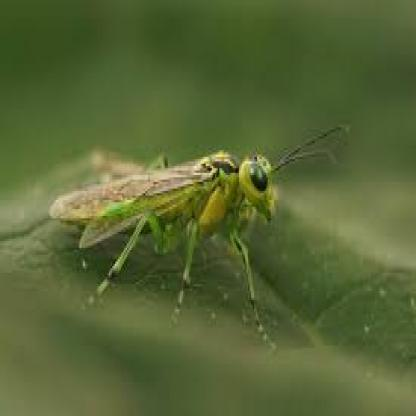sawfly: (42, 112, 354, 346)
